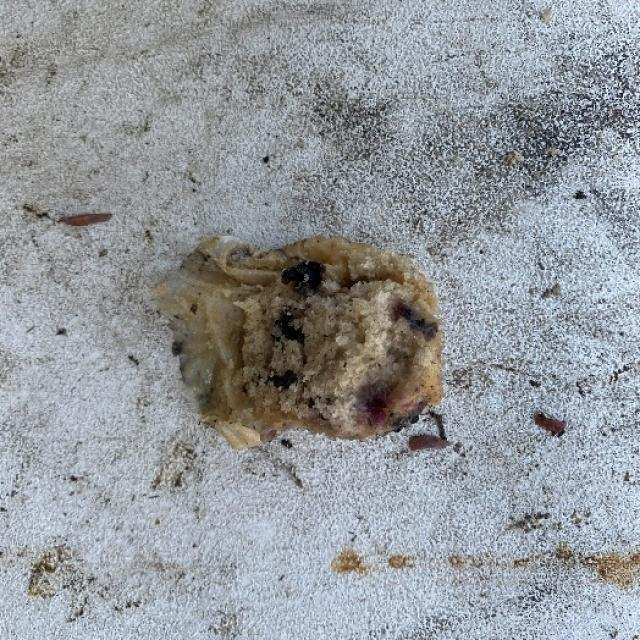organik: (169, 240, 446, 434)
